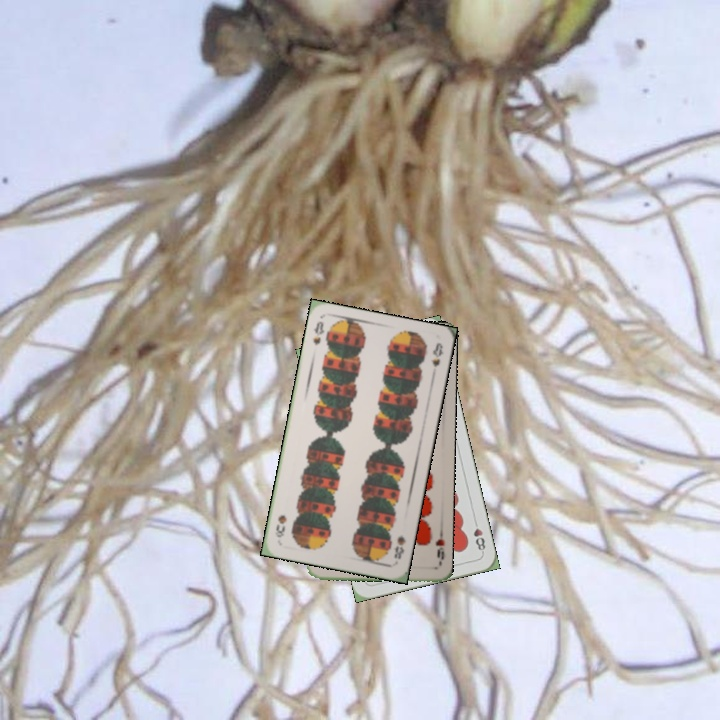H8: (469, 516, 488, 556)
H9: (432, 526, 447, 566)
S8: (390, 531, 409, 561), (309, 317, 327, 348)
